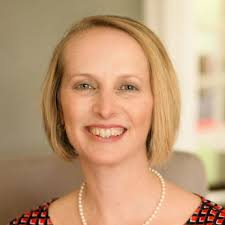white_female: (33, 32, 158, 155)
